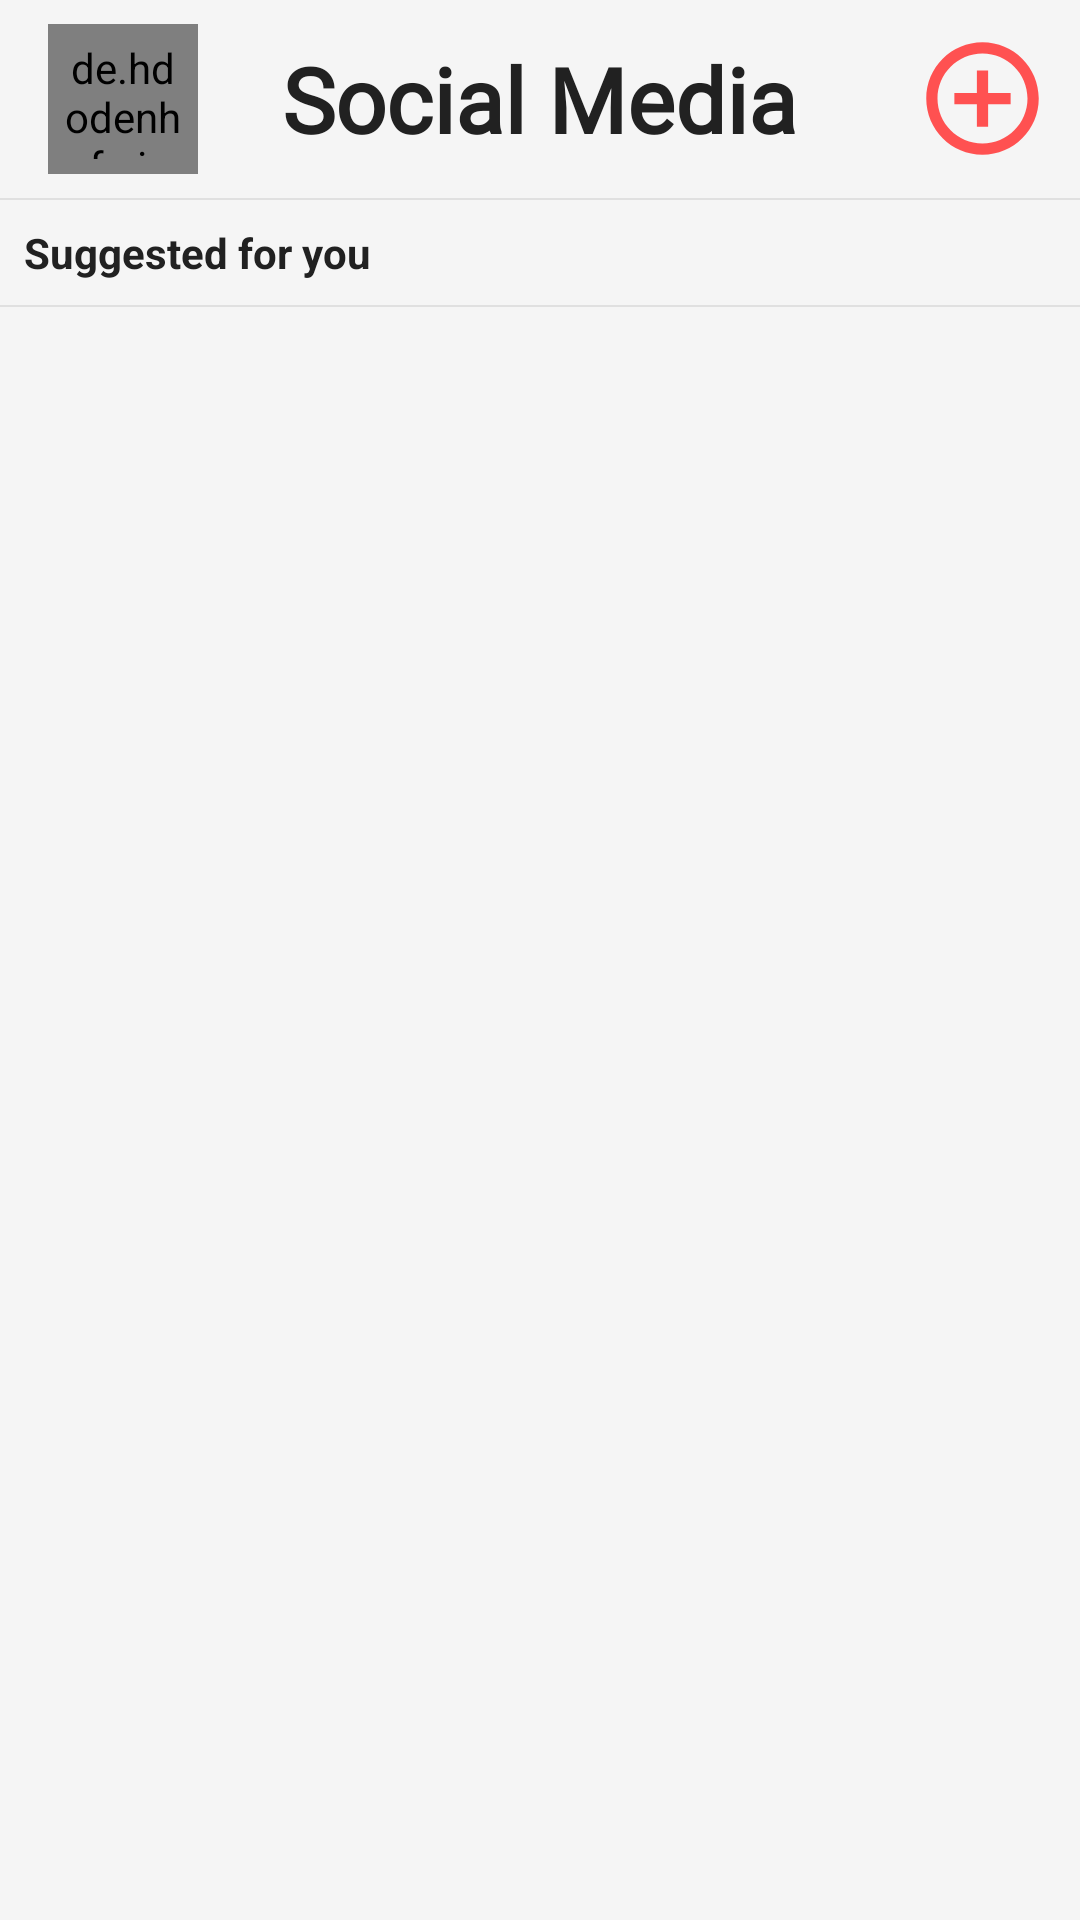

Icon bounding boxes for this 1080×1920 phone screenshot, format (x1, y1, x2, y2):
add: (926, 42, 1039, 155)
